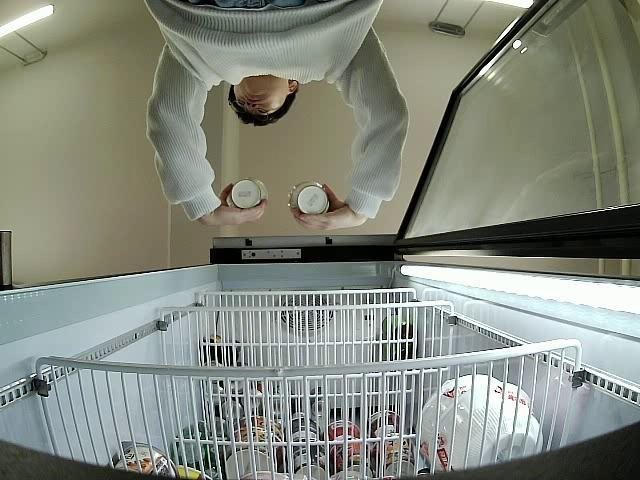04_chapagetti_S: (289, 177, 329, 216), (232, 177, 266, 211)
